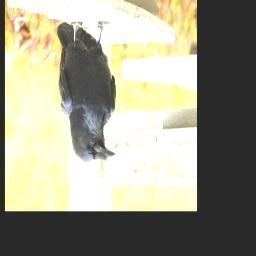Crow: (57, 20, 117, 163)
